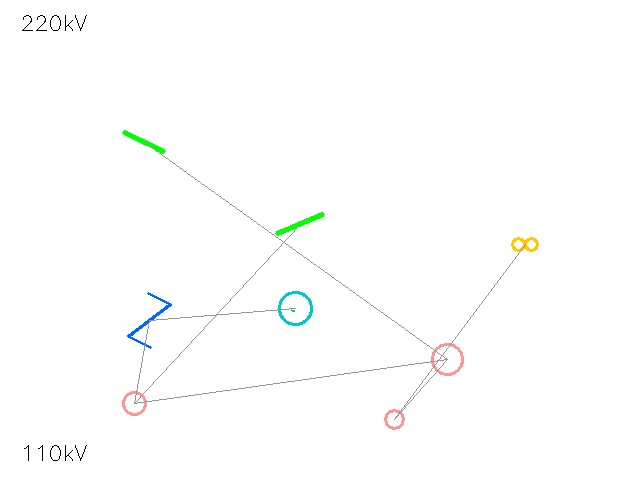busbar: (269, 193, 331, 255), (117, 115, 171, 169)
circuit_breaker: (123, 294, 175, 346)
generator: (279, 292, 311, 324)
load_break_switch: (417, 329, 477, 389), (111, 380, 157, 426)
surge_arrester: (375, 400, 413, 438)
transformer_2w: (508, 227, 542, 261)
